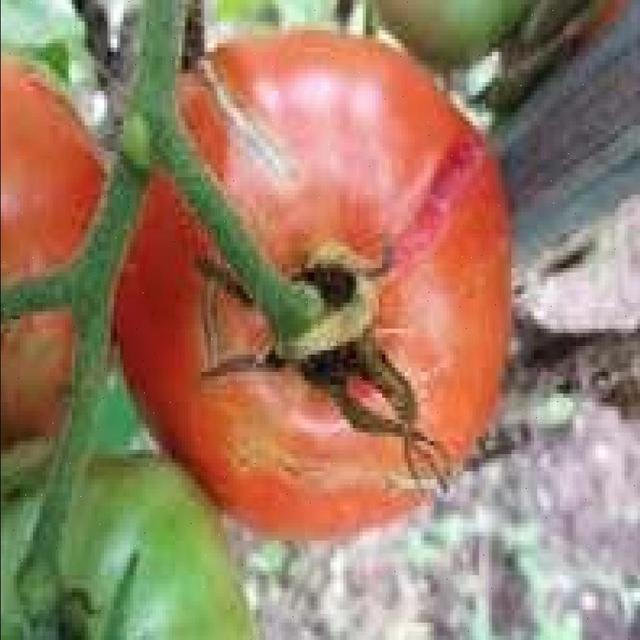Cracking Fruit: (35, 76, 221, 315)
